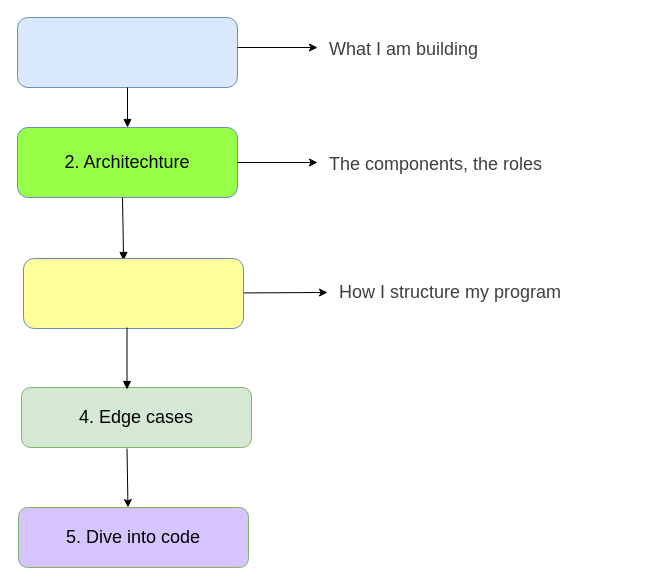
The diagram is 655 pixels wide and 585 high, and some of its shapes have lost their labels. Each missing label, with the centre of its shape:
"1. Problem" belongs at point 127,52.
"3. Program Flow" belongs at point 133,293.
